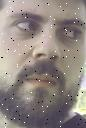without_mask: (1, 2, 86, 128)
